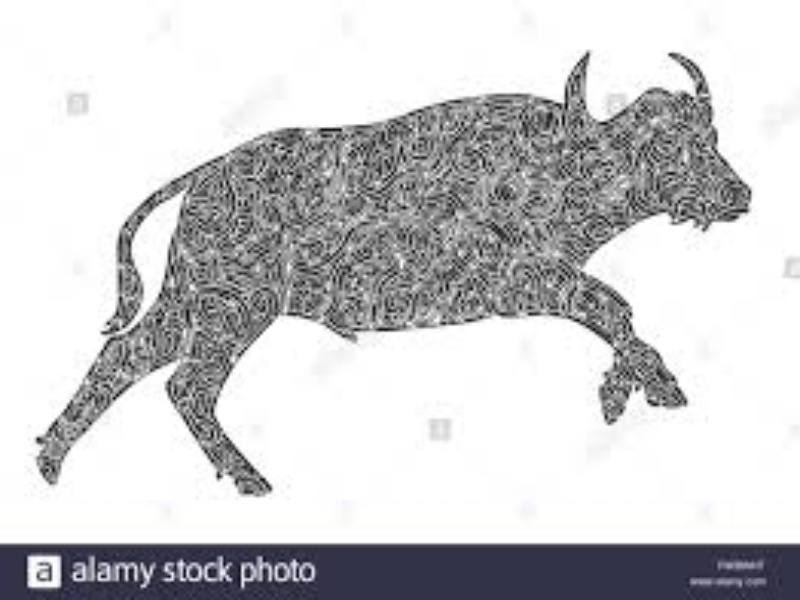buffalo: (38, 49, 761, 504)
